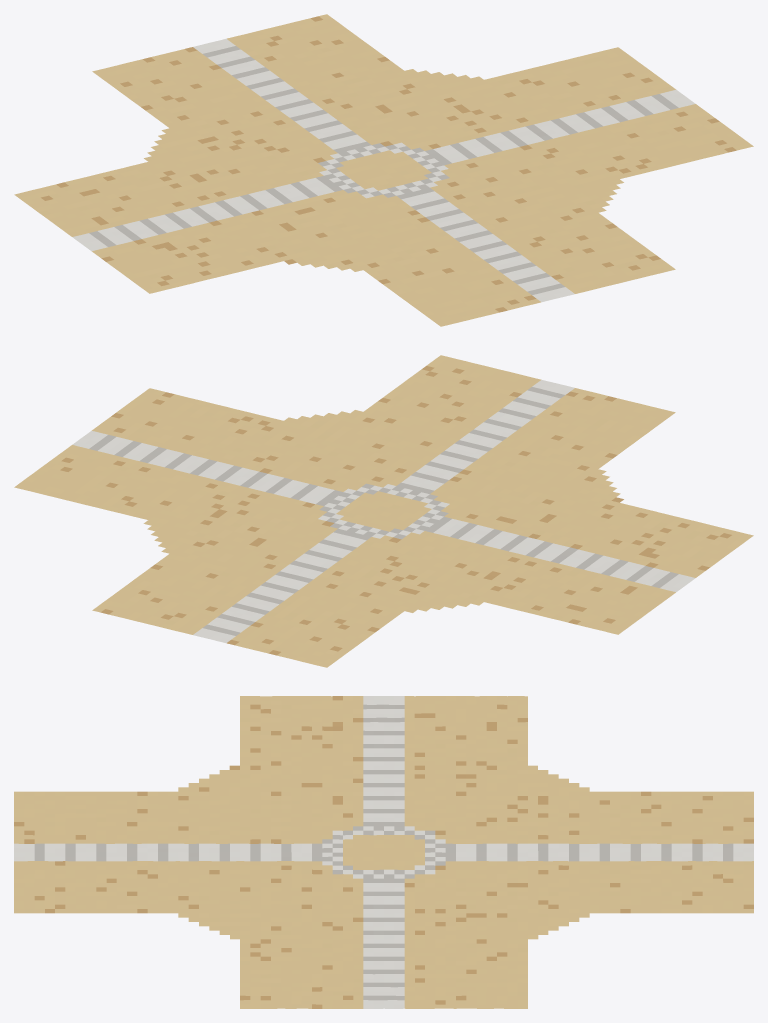
Rendered from SM_GrandFloor.fbx.
3 renders of one model, top to bottom at view 1: azimuth 30°, elevation 25°; view 2: azimuth 150°, elevation 25°; view 3: azimuth 270°, elevation 25°, orthographic. The views are drawn at different scales.
Visible parts, largest first — view 1: SM_GrandFloor; view 2: SM_GrandFloor; view 3: SM_GrandFloor.
Part boxes in pixels (x1=…): SM_GrandFloor: x1=14, y1=14, x2=753, y2=326; SM_GrandFloor: x1=14, y1=355, x2=753, y2=667; SM_GrandFloor: x1=14, y1=696, x2=753, y2=1008.
Size of the model in its own units: 144 by 144 by 0.03.
